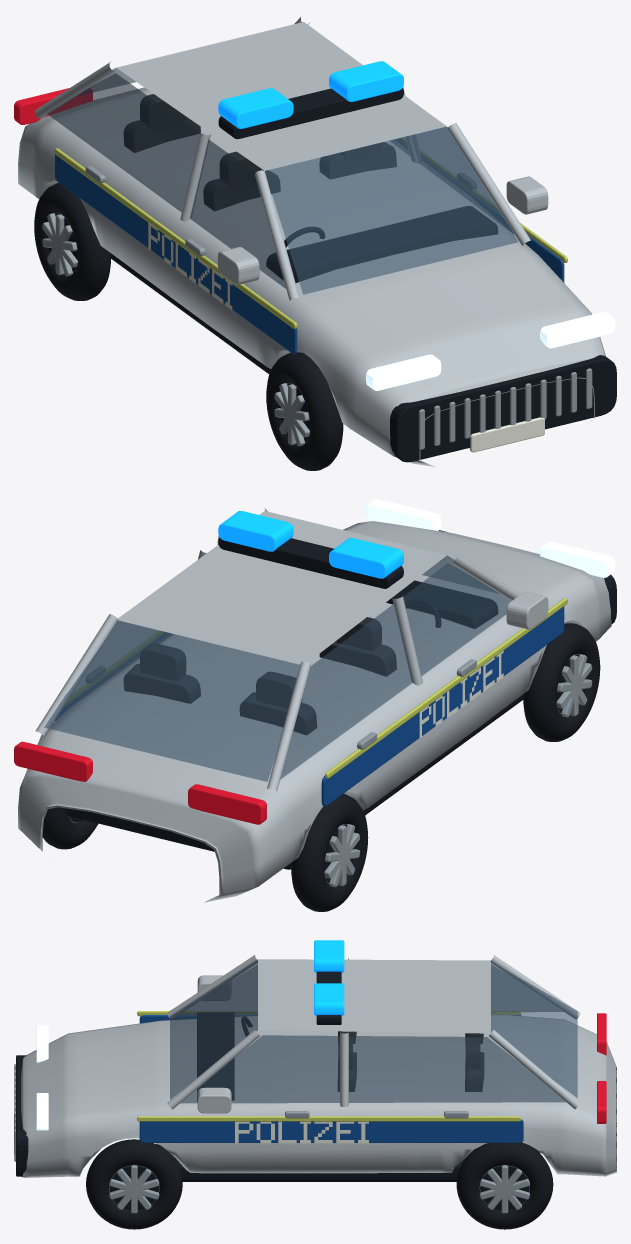
Rendered from patrol-a6.glb.
The picture shows the model from 3 angles, top to bottom: view 1: azimuth 30°, elevation 25°; view 2: azimuth 150°, elevation 25°; view 3: azimuth 270°, elevation 25°; orthographic projection. The views are drawn at different scales.
Parts seen in each view (by area): view 1: Silver_metallic_paint, Smoked_glass, Grille_and_trim, Interior_fabric, Wheel_L_F, Police_blue_film, Wheel_L_R, Beacon_blue, Machined_alloy, LED_headlights, Safety_strip, Markings (+1 smaller); view 2: Silver_metallic_paint, Smoked_glass, Grille_and_trim, Interior_fabric, Wheel_L_F, Wheel_L_R, Police_blue_film, Beacon_blue, Tail_lights, LED_headlights, Safety_strip, Wheel_R_R (+2 smaller); view 3: Silver_metallic_paint, Smoked_glass, Police_blue_film, Grille_and_trim, Wheel_R_F, Wheel_R_R, Safety_strip, Beacon_blue, Interior_fabric, Markings, LED_headlights, Tail_lights (+1 smaller).
Part boxes in pixels (x1,y1,x2,y2): Silver_metallic_paint: (18, 17, 605, 466); Smoked_glass: (47, 68, 517, 294); Grille_and_trim: (111, 88, 616, 462); Interior_fabric: (124, 94, 396, 210); Wheel_L_F: (266, 352, 343, 470); Police_blue_film: (55, 139, 564, 354); Wheel_L_R: (34, 183, 111, 300); Beacon_blue: (218, 61, 403, 128); Machined_alloy: (85, 166, 592, 449); LED_headlights: (366, 312, 615, 390); Safety_strip: (54, 138, 567, 328); Markings: (148, 222, 544, 452); Silver_metallic_paint: (18, 508, 611, 902); Smoked_glass: (44, 555, 510, 781); Grille_and_trim: (65, 530, 616, 869); Interior_fabric: (124, 617, 396, 734); Wheel_L_F: (523, 623, 600, 741); Wheel_L_R: (291, 793, 368, 911); Police_blue_film: (55, 606, 564, 806); Beacon_blue: (218, 511, 403, 578); Tail_lights: (14, 741, 266, 824); LED_headlights: (366, 499, 615, 577); Safety_strip: (65, 598, 567, 778); Wheel_R_R: (42, 807, 98, 849); Silver_metallic_paint: (21, 955, 616, 1177); Smoked_glass: (170, 959, 577, 1103); Police_blue_film: (139, 1015, 523, 1142); Grille_and_trim: (16, 971, 540, 1181); Wheel_R_F: (86, 1139, 182, 1229); Wheel_R_R: (456, 1142, 553, 1229); Safety_strip: (137, 1011, 521, 1121); Beacon_blue: (314, 940, 344, 1015); Interior_fabric: (338, 1031, 483, 1091); Markings: (14, 1114, 368, 1154); LED_headlights: (36, 1025, 48, 1130); Tail_lights: (597, 1013, 606, 1123).
Bounding box in the file's own units: 2.25 × 1.79 × 4.73.
